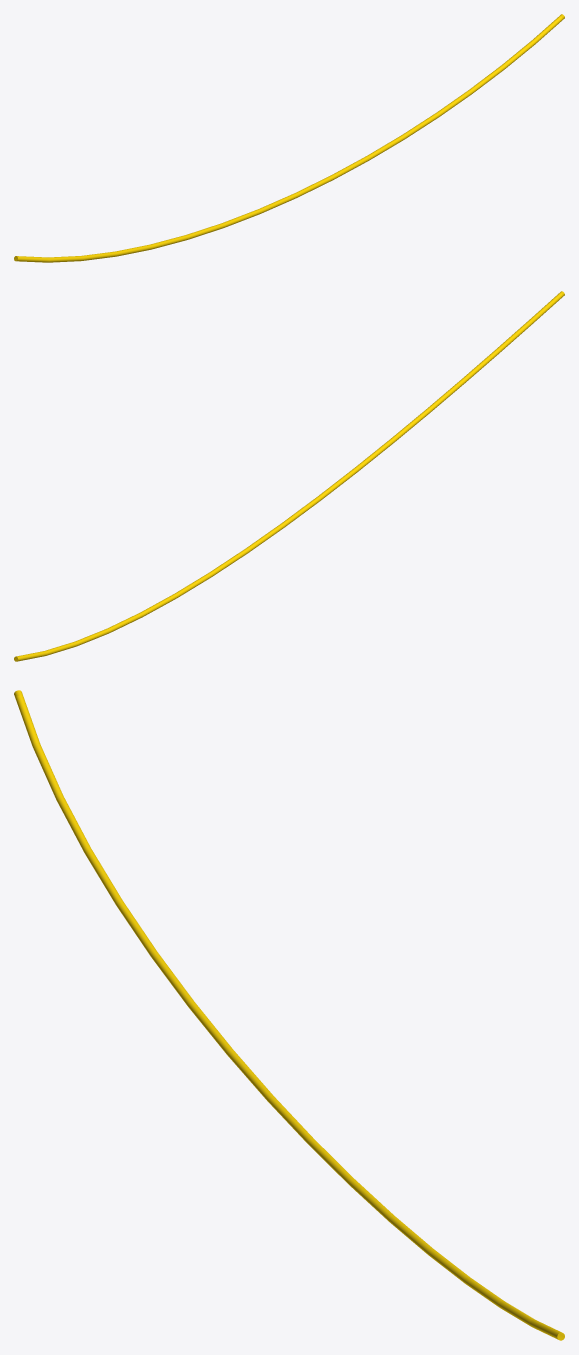
Rendered from Event_420094457_track_7.fbx.
3 renders of one model, top to bottom at view 1: azimuth 30°, elevation 25°; view 2: azimuth 210°, elevation 25°; view 3: azimuth 270°, elevation 25°, orthographic. The views are drawn at different scales.
Visible parts, largest first — view 1: Model; view 2: Model; view 3: Model.
Boxes of the visible parts, left/top/right/bottom form: Model: left=14, top=14, right=564, bottom=262; Model: left=14, top=291, right=564, bottom=661; Model: left=14, top=690, right=564, bottom=1340.
Size of the model in its own units: 6.3 by 0.7936 by 2.67.
